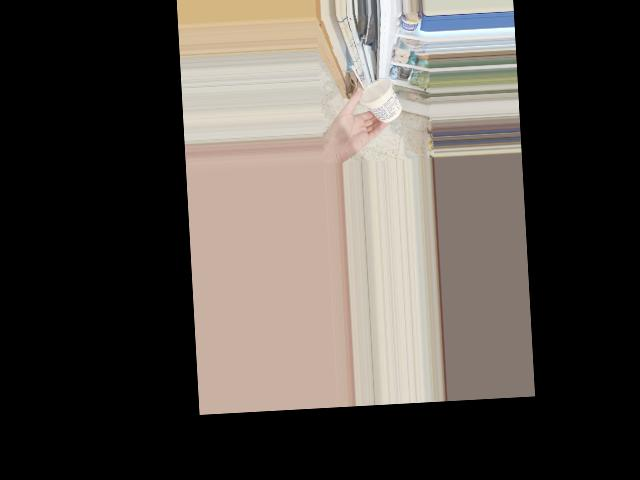cotage: (356, 77, 400, 120)
